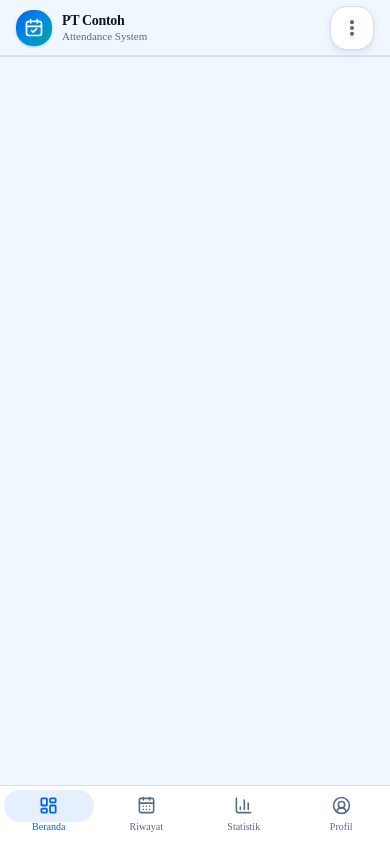
overflow menu › opens, closes on a second press, and reflects state via aria-expanded
The image size is (390, 844).
Click the button named "Buka menu" at (352, 28), box [330,6,374,50]
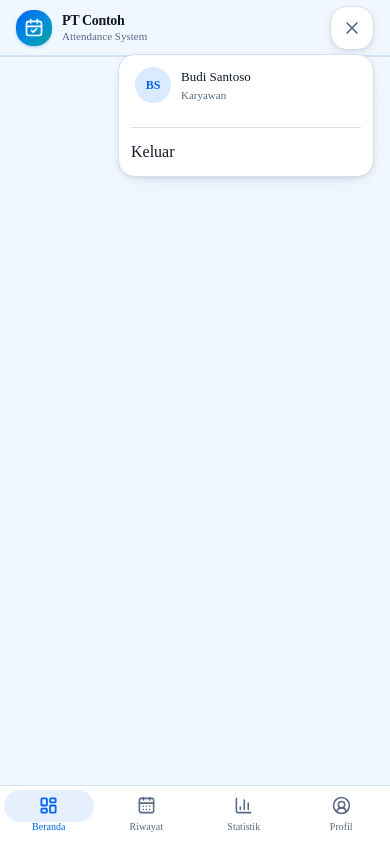
Check: the menu is shown, box [118,54,374,177]
Click the button named "Tutup menu" at (352, 28), box [330,6,374,50]
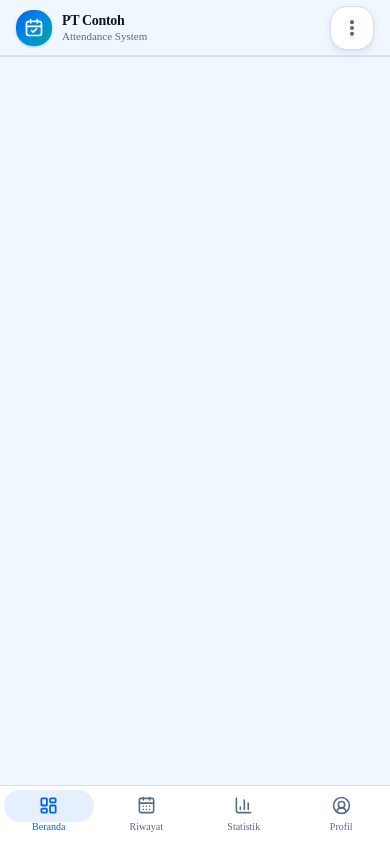
Check: the menu is gone
